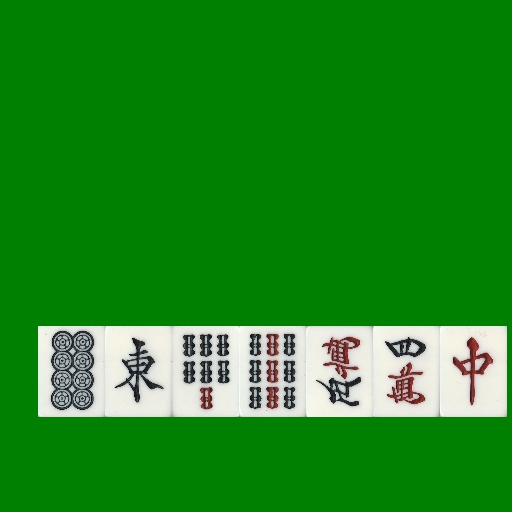4m: (373, 326, 440, 417)
5m: (306, 326, 373, 417)
7s: (172, 326, 239, 417)
8p: (38, 326, 105, 417)
9s: (239, 326, 306, 417)
east: (105, 326, 172, 417)
tyun: (440, 326, 507, 417)
